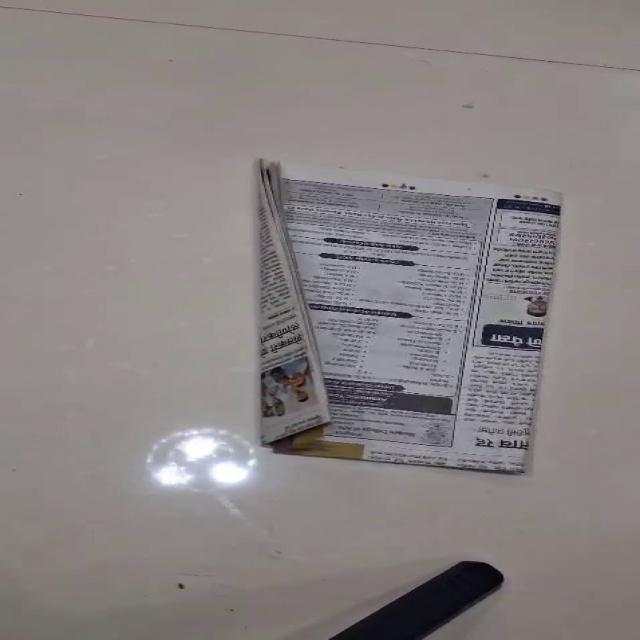paper: (256, 158, 564, 474)
